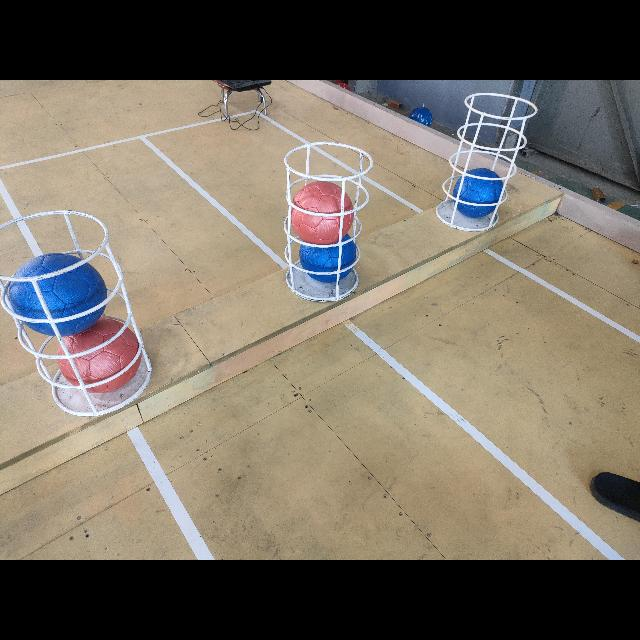B: (6, 254, 106, 328), (296, 242, 358, 284), (452, 169, 503, 219)
R: (55, 332, 142, 394), (288, 183, 354, 240)
